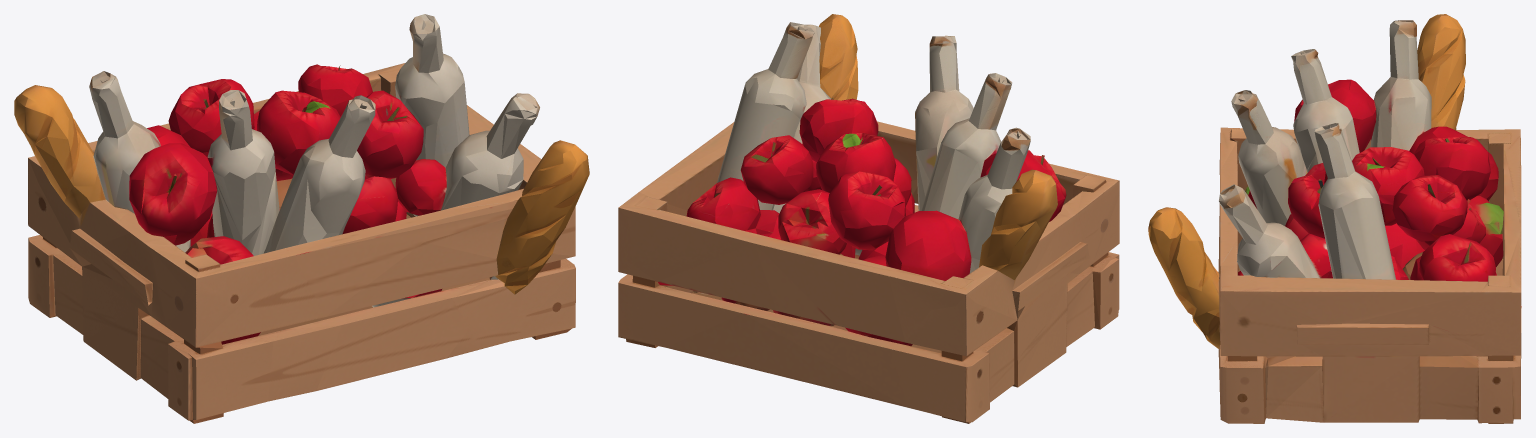
The model's file is goods-crate.glb.
3 renders of one model, left to right at view 1: azimuth 30°, elevation 25°; view 2: azimuth 150°, elevation 25°; view 3: azimuth 270°, elevation 25°, orthographic. The views are drawn at different scales.
Size of the model in its own units: 1.9 by 1.22 by 1.56.
Materials: 1 (1 with a texture image).
